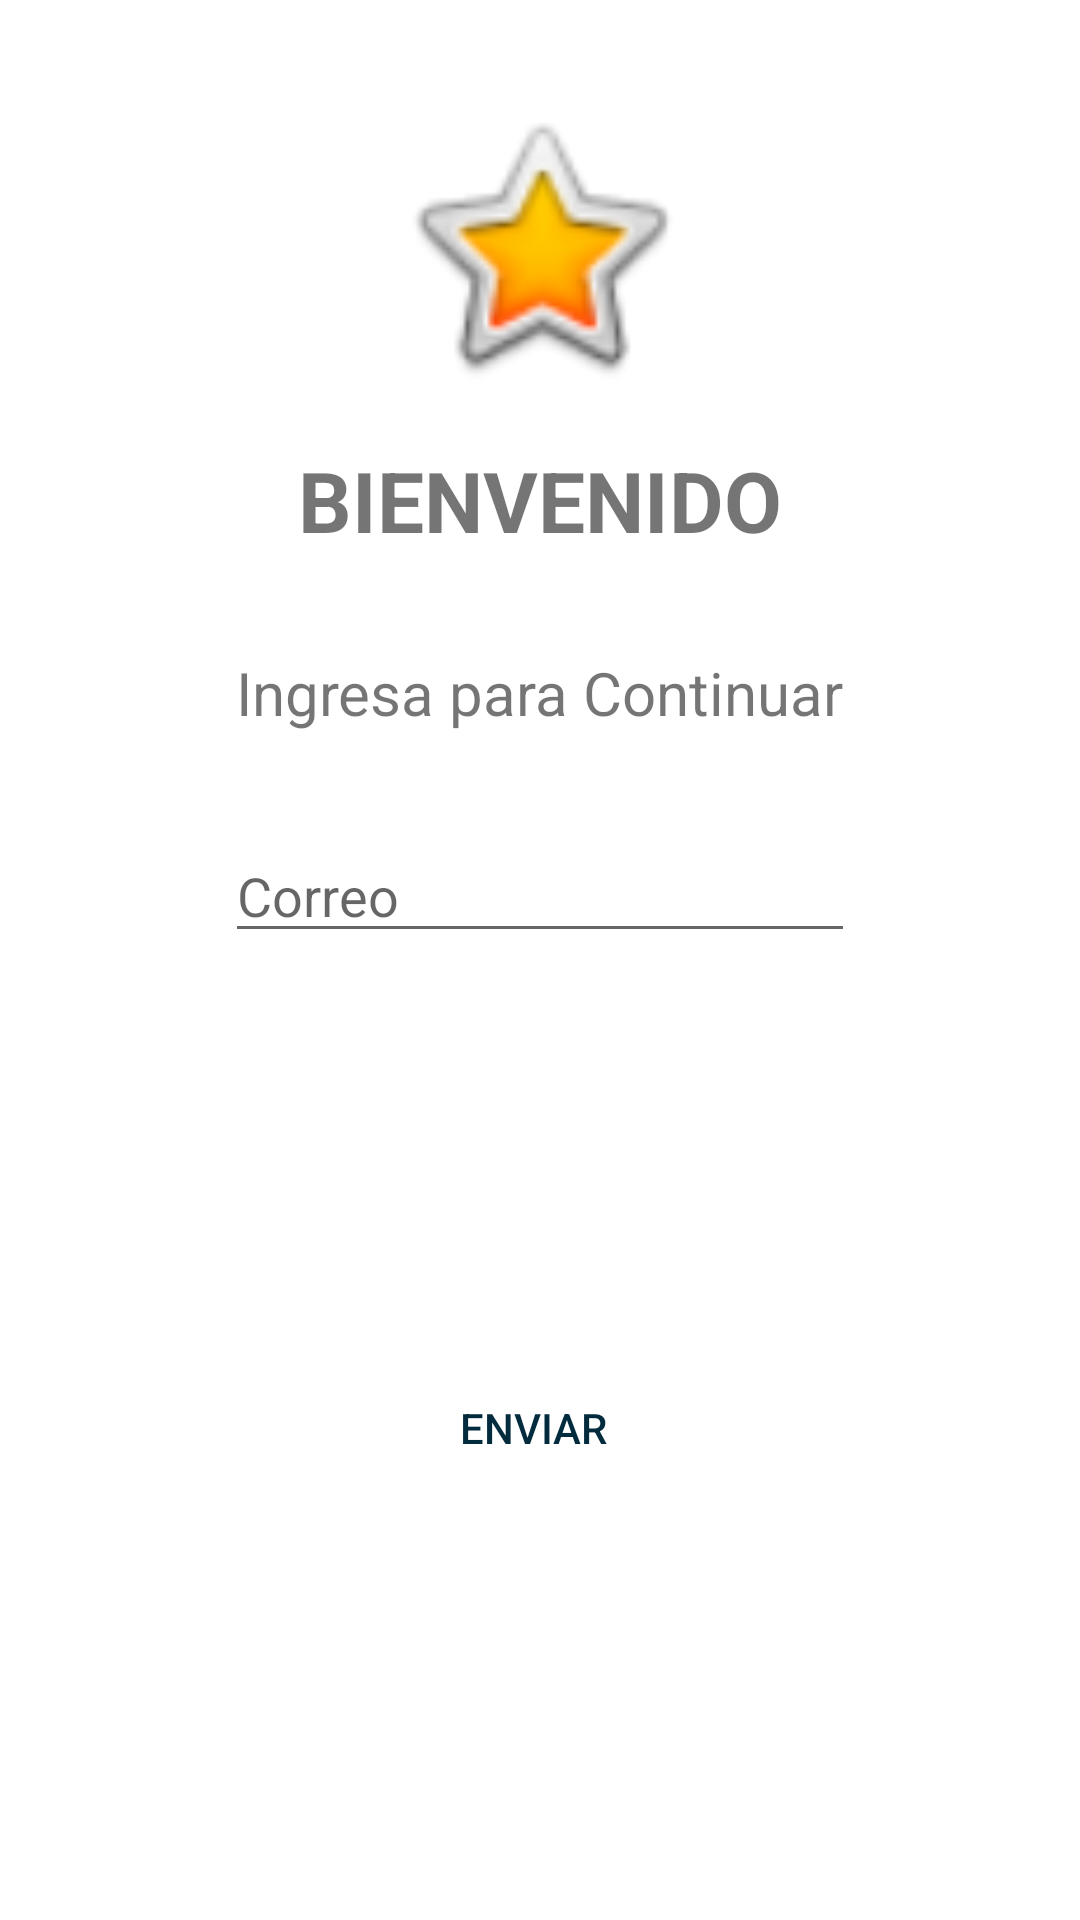

Named icons in this screenshot (1080 x 1920) and their centers, [x,y]:
star on: [542,248]
